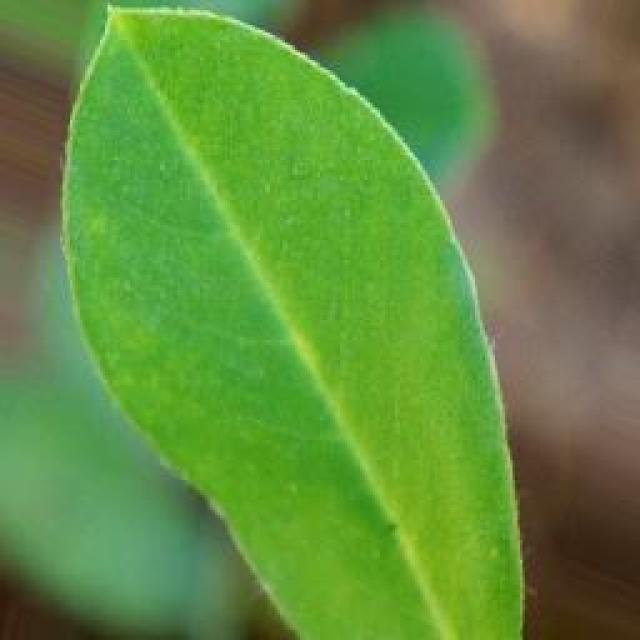Yellow_and_black_sigatoka: (54, 0, 534, 637)
